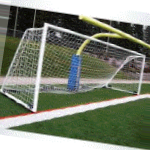goals: (2, 21, 147, 111)
